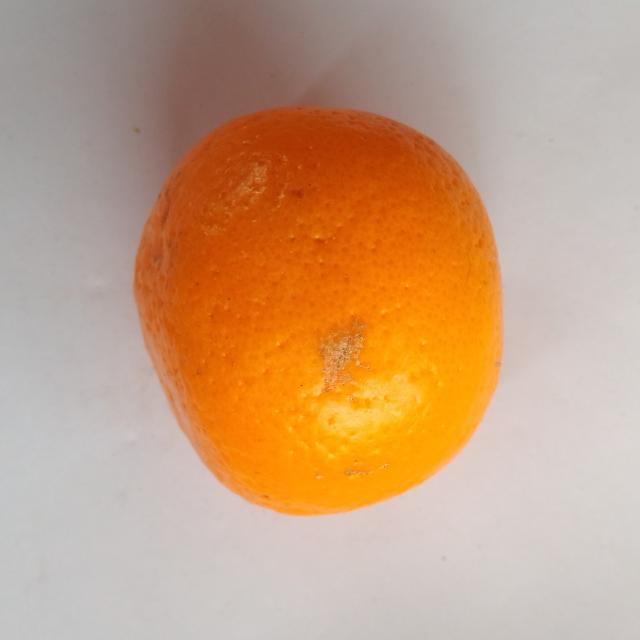orange: (135, 107, 501, 514)
